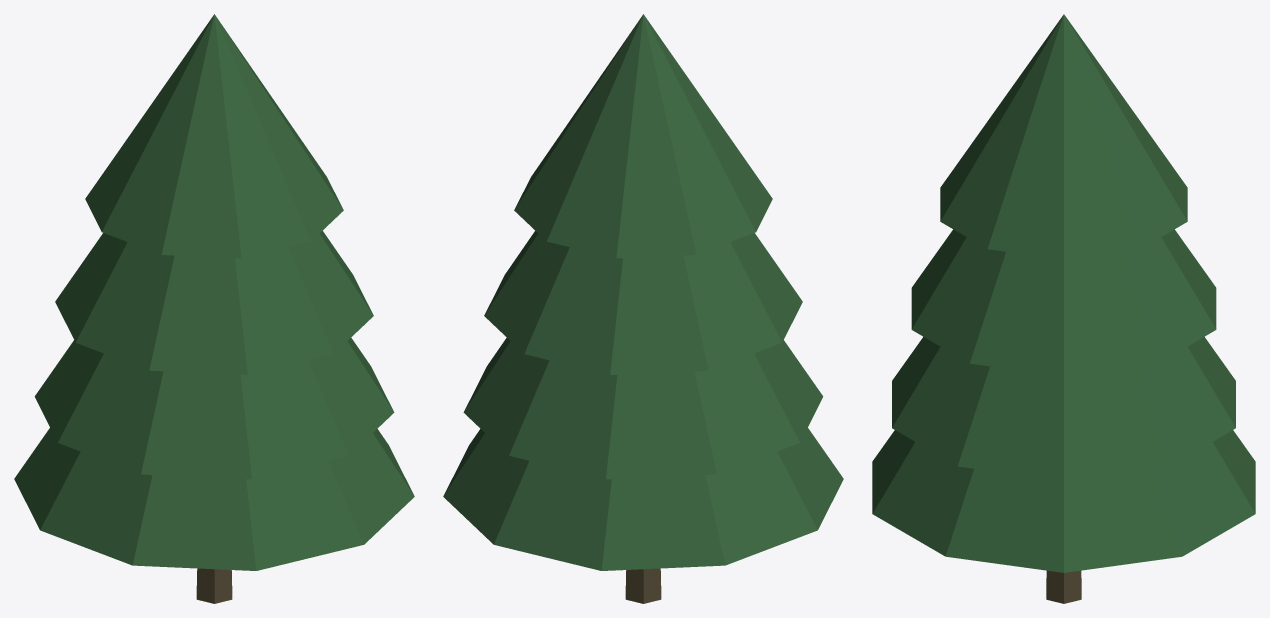
File: Tree 3.fbx
The picture shows the model from 3 angles, left to right: view 1: azimuth 30°, elevation 25°; view 2: azimuth 150°, elevation 25°; view 3: azimuth 270°, elevation 25°; orthographic projection.
Visible parts, largest first — view 1: polySurface1, polySurface5, polySurface3, polySurface4, polySurface2; view 2: polySurface1, polySurface5, polySurface3, polySurface4, polySurface2; view 3: polySurface1, polySurface5, polySurface3, polySurface4, polySurface2.
Part boxes in pixels (x1,y1,x2,y2): polySurface1: [85, 14, 343, 258]; polySurface5: [14, 428, 414, 570]; polySurface3: [34, 338, 394, 479]; polySurface4: [55, 230, 373, 374]; polySurface2: [196, 568, 232, 603]; polySurface1: [514, 14, 772, 258]; polySurface5: [443, 428, 843, 570]; polySurface3: [463, 338, 823, 479]; polySurface4: [484, 230, 802, 374]; polySurface2: [625, 568, 661, 603]; polySurface1: [940, 14, 1187, 259]; polySurface5: [872, 430, 1255, 572]; polySurface3: [892, 337, 1235, 480]; polySurface4: [911, 229, 1216, 376]; polySurface2: [1046, 570, 1081, 603].
Bounding box in the file's own units: 46.18 × 73.51 × 43.92.
